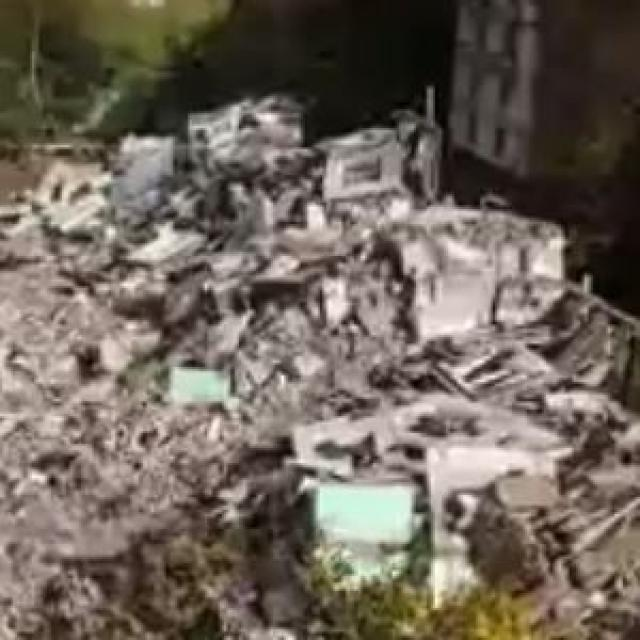collapsed_building: (2, 94, 619, 595)
